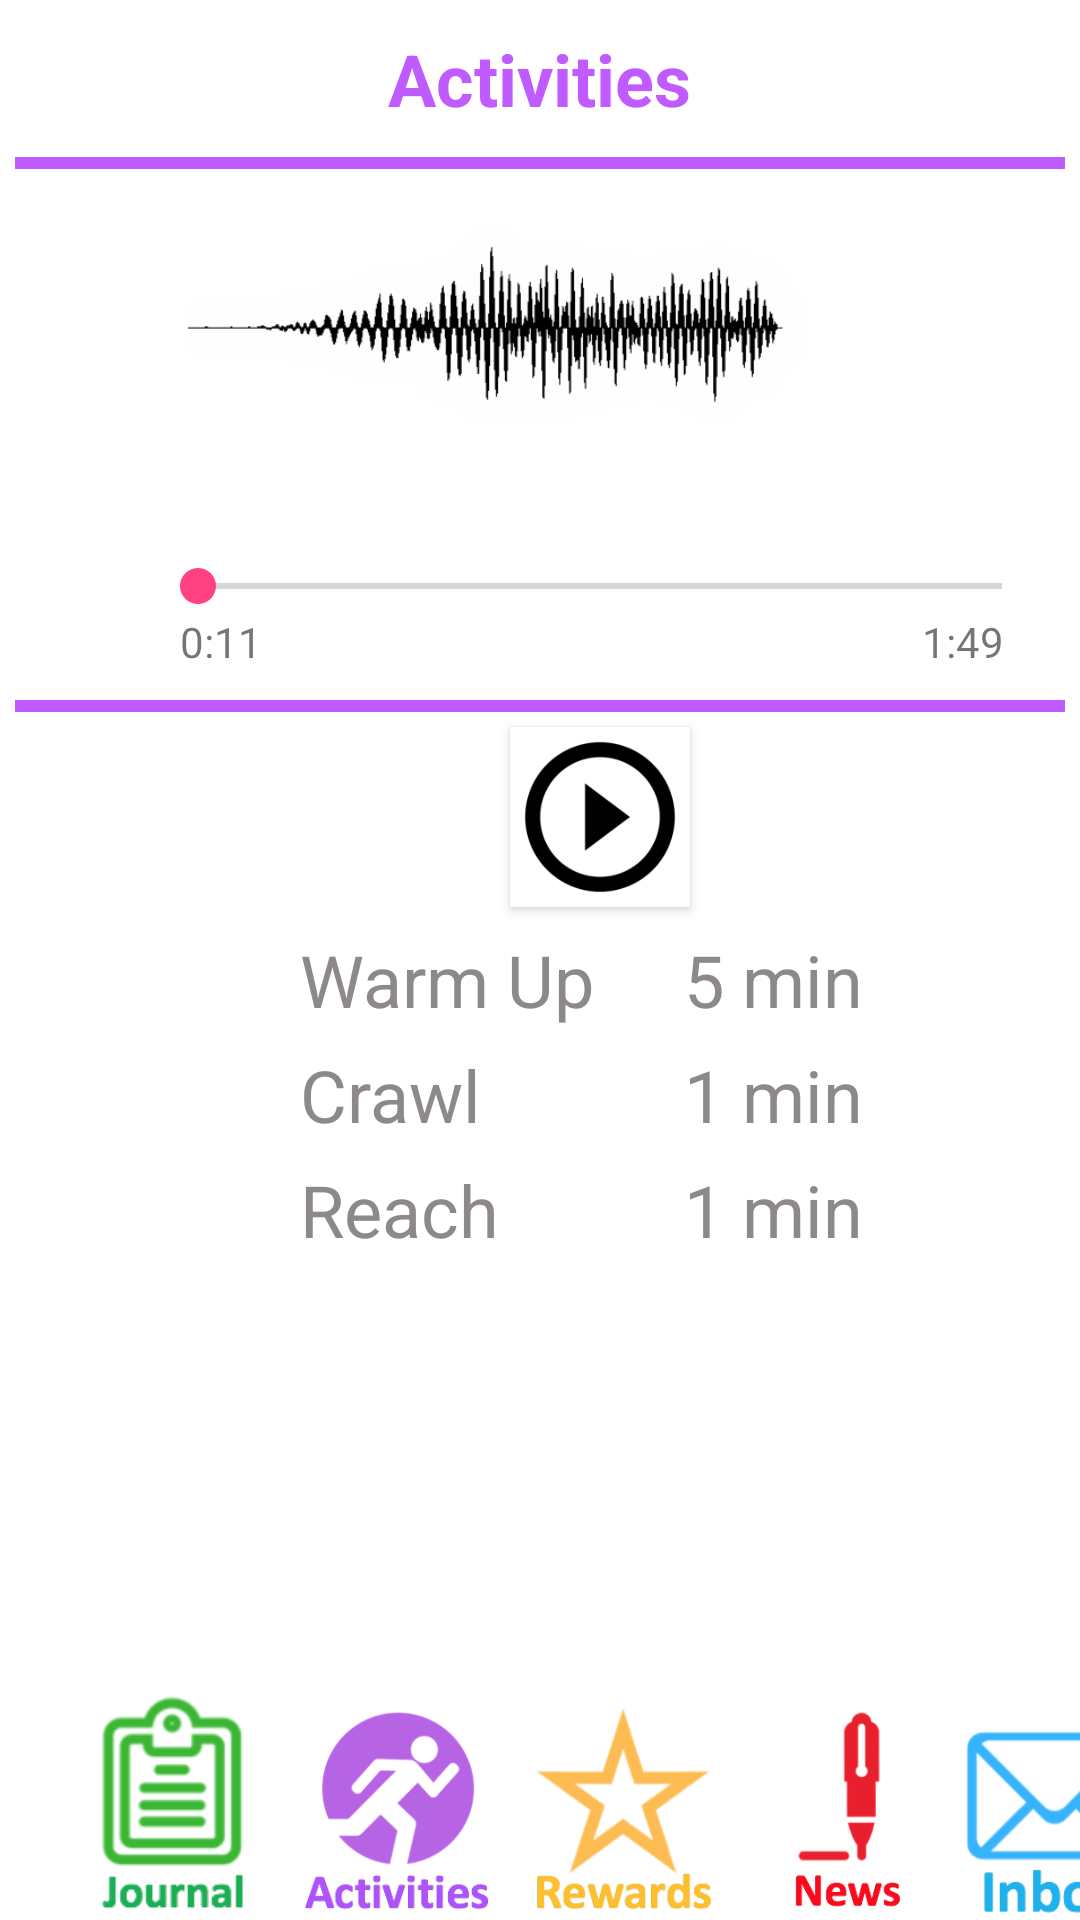

Where to tap for icons on this 1080 x 1920 app screen, as (x,y):
play circle: (600,817)
